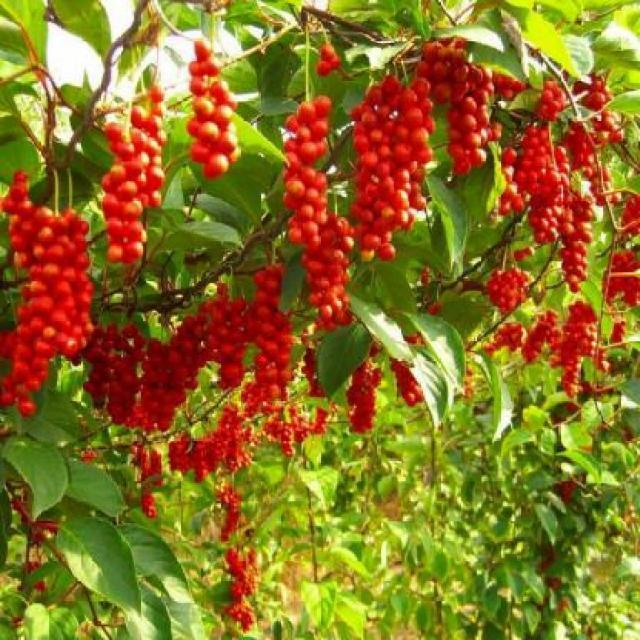RIPE: (5, 202, 78, 422), (356, 68, 427, 251), (292, 96, 349, 321), (101, 88, 165, 268), (517, 154, 600, 283), (250, 248, 292, 441), (187, 36, 244, 176), (143, 300, 199, 438), (442, 63, 493, 165), (556, 304, 602, 405), (204, 283, 245, 386), (93, 319, 135, 418), (229, 535, 266, 639), (200, 406, 245, 486), (617, 194, 638, 311), (350, 367, 385, 436), (138, 443, 167, 520)
